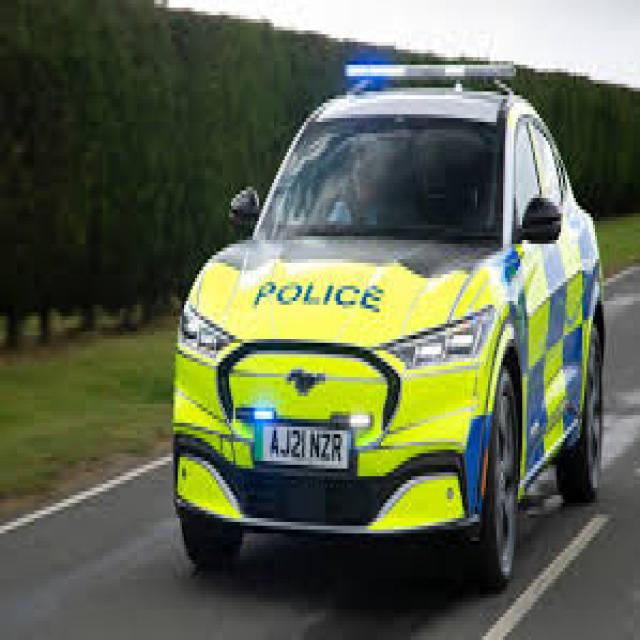Police: (165, 42, 615, 621)
